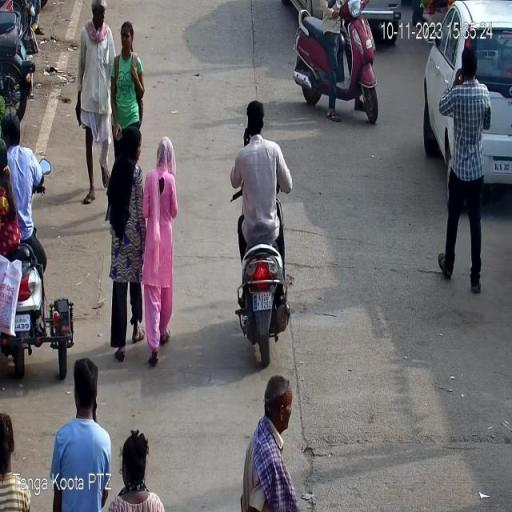using mobile: (241, 120, 251, 146)
